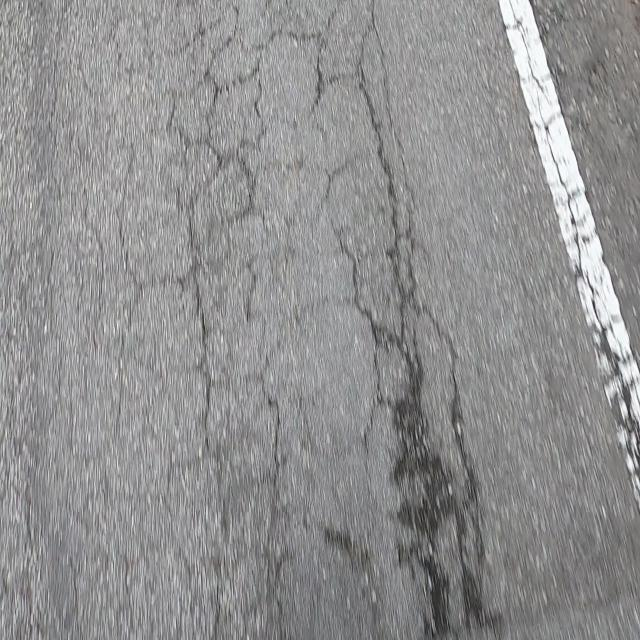Retak-Buaya: (119, 2, 297, 640), (310, 0, 478, 635)
